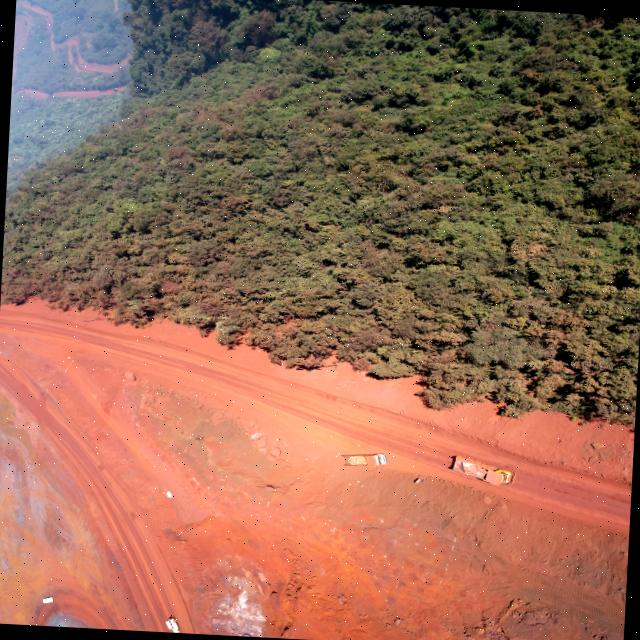Dumper truck: (452, 459, 516, 485), (344, 451, 388, 466)
car: (163, 616, 180, 633), (42, 594, 53, 604)
